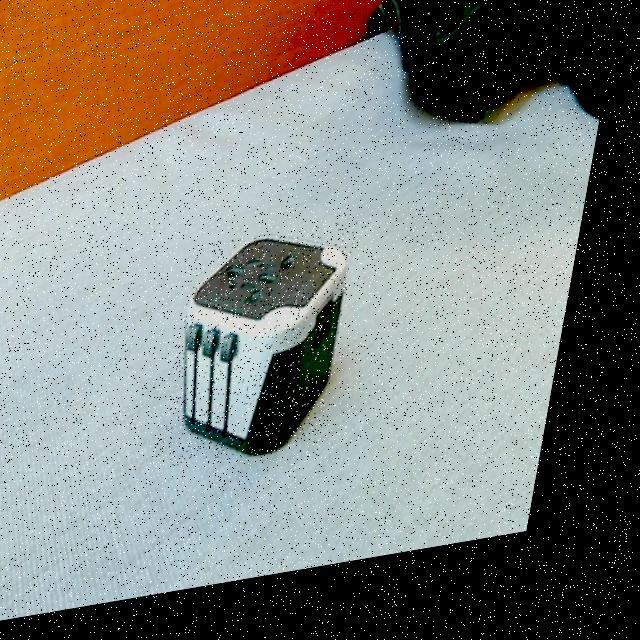adapter: (176, 233, 370, 482)
